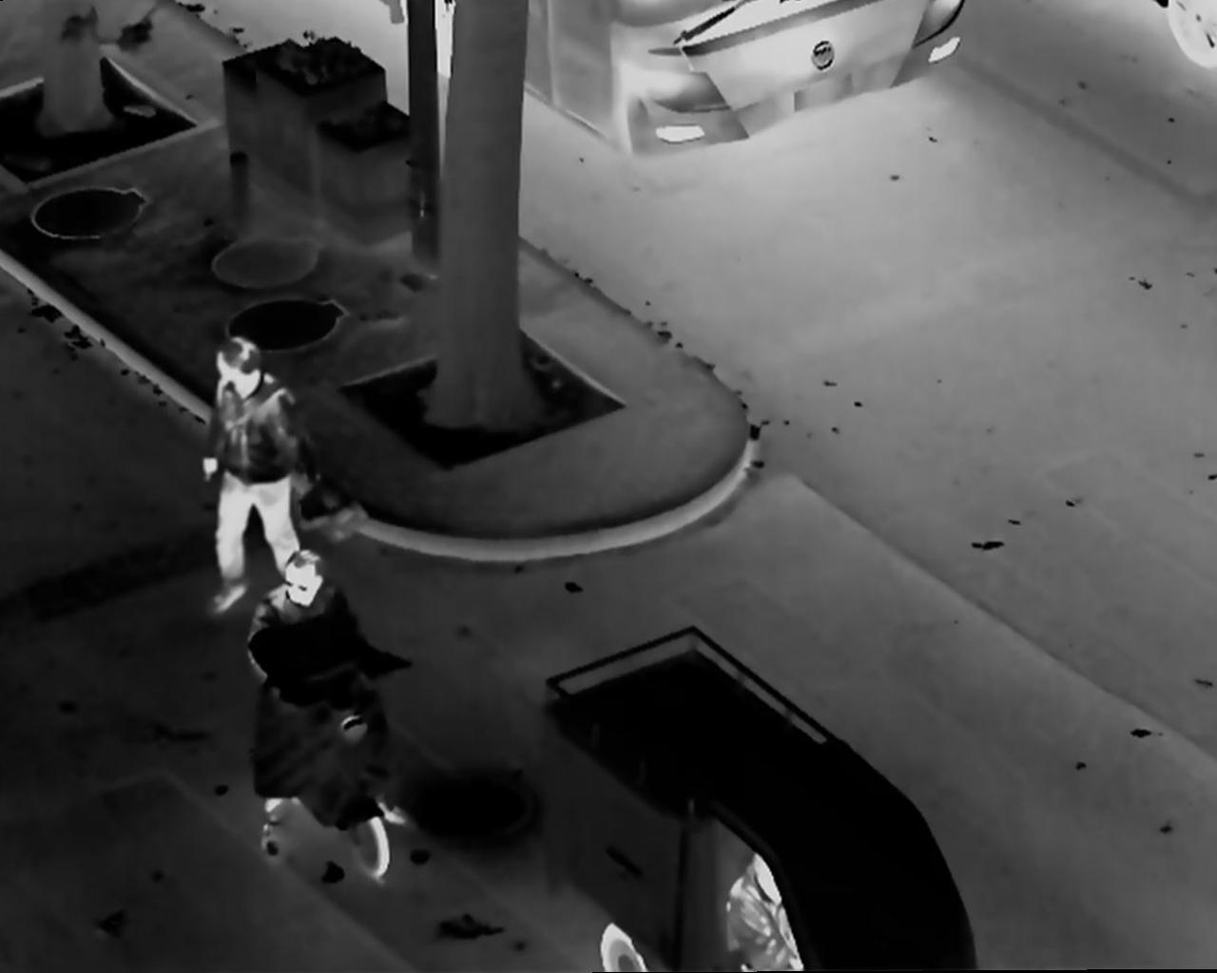person: (242, 543, 416, 853), (197, 332, 333, 615), (728, 848, 809, 973)
